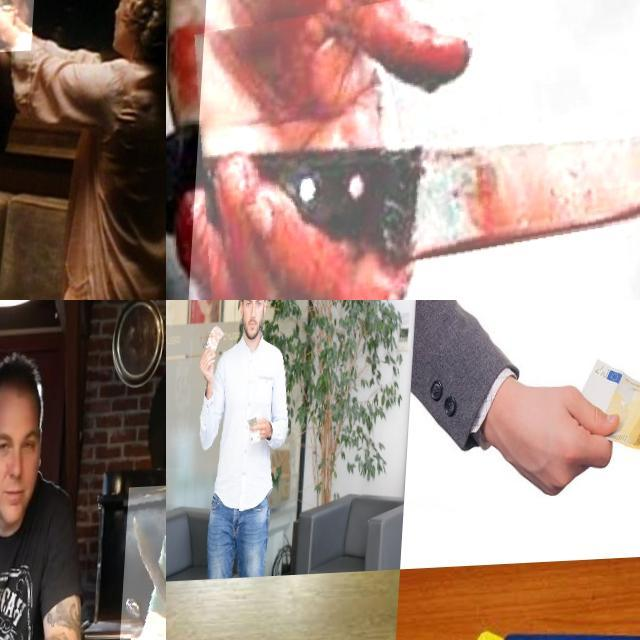-: (191, 0, 640, 300), (122, 487, 166, 640)
gun-knife-thesis - v11 Yolov5 augmented: (0, 0, 41, 58)
